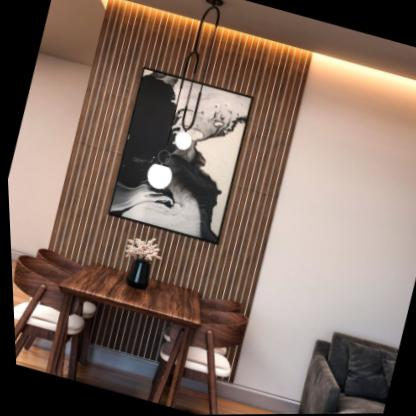Sofa: (282, 325, 399, 414)
Wall Panel: (32, 0, 322, 319)
